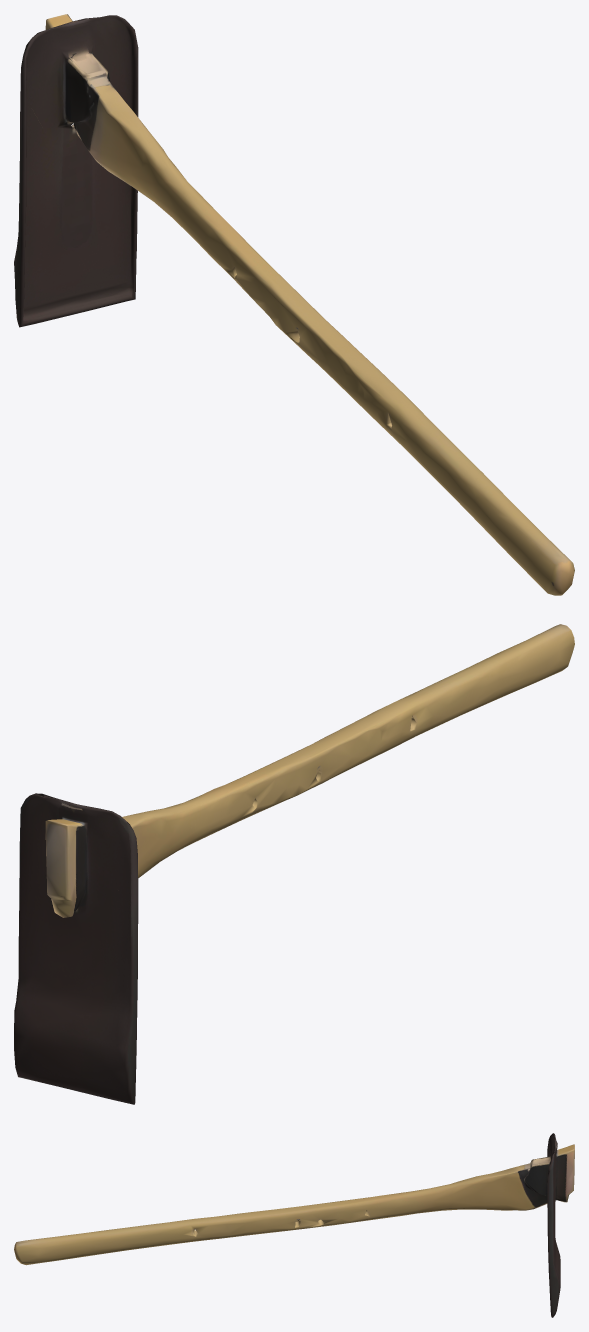
Rendered from Hoe.glb.
3 renders of one model, top to bottom at view 1: azimuth 30°, elevation 25°; view 2: azimuth 150°, elevation 25°; view 3: azimuth 270°, elevation 25°, orthographic. The views are drawn at different scales.
Visible parts, largest first — view 1: tripo_node_702d8cc3-40cd-4e11-beb2-385e5db2e38f; view 2: tripo_node_702d8cc3-40cd-4e11-beb2-385e5db2e38f; view 3: tripo_node_702d8cc3-40cd-4e11-beb2-385e5db2e38f.
Part boxes in pixels (<box>): tripo_node_702d8cc3-40cd-4e11-beb2-385e5db2e38f: <box>14,14,574,595</box>; tripo_node_702d8cc3-40cd-4e11-beb2-385e5db2e38f: <box>14,624,574,1104</box>; tripo_node_702d8cc3-40cd-4e11-beb2-385e5db2e38f: <box>14,1133,574,1317</box>.
Bounding box in the file's own units: 0.1313 × 0.3136 × 1.
Materials: 1 (1 with a texture image).
